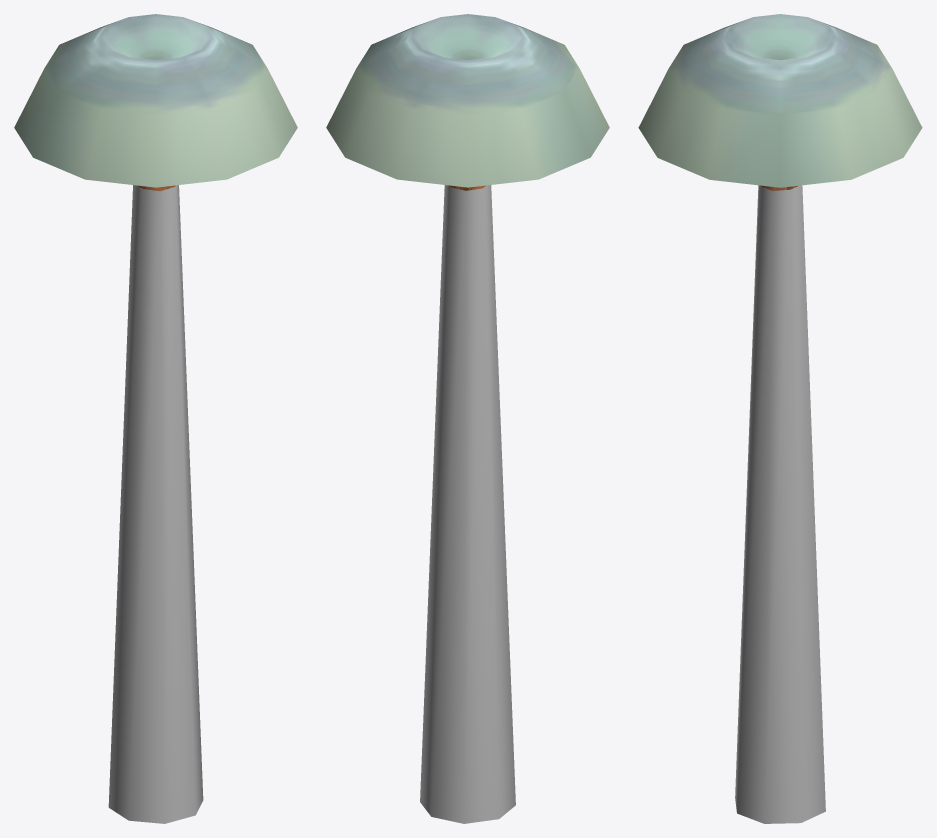
The model's file is INST_TROLLHOLE_TRAP-SPIKE.obj.
3 renders of one model, left to right at view 1: azimuth 30°, elevation 25°; view 2: azimuth 150°, elevation 25°; view 3: azimuth 270°, elevation 25°, orthographic.
Parts seen in each view (by area): view 1: p-Spike_Lod1_01, ikeBase_Lod1_01; view 2: p-Spike_Lod1_01, ikeBase_Lod1_01; view 3: p-Spike_Lod1_01, ikeBase_Lod1_01.
Part boxes in pixels (x1,y1,x2,y2): p-Spike_Lod1_01: (108, 185, 203, 823); ikeBase_Lod1_01: (14, 14, 297, 187); p-Spike_Lod1_01: (420, 185, 515, 823); ikeBase_Lod1_01: (326, 14, 609, 187); p-Spike_Lod1_01: (735, 185, 825, 823); ikeBase_Lod1_01: (638, 14, 922, 187).
Size of the model in its own units: 81.67 by 244 by 81.67.
